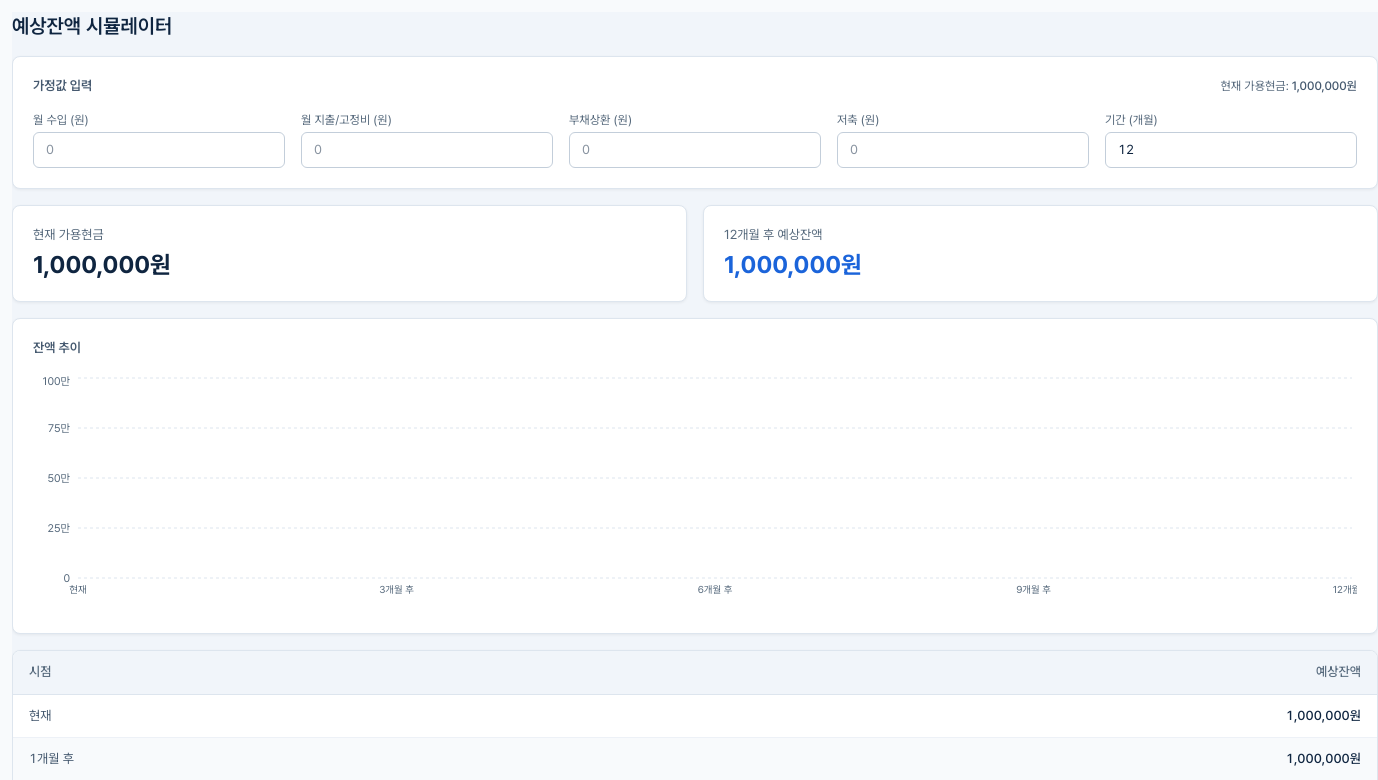
Scenario: 예상잔액 계산 › 수입에서 지출·부채상환·저축을 모두 뺀다
Type "3000000" into the number field labelled "월 수입 (원)" at (159, 150), box left=33, top=132, right=285, bottom=168
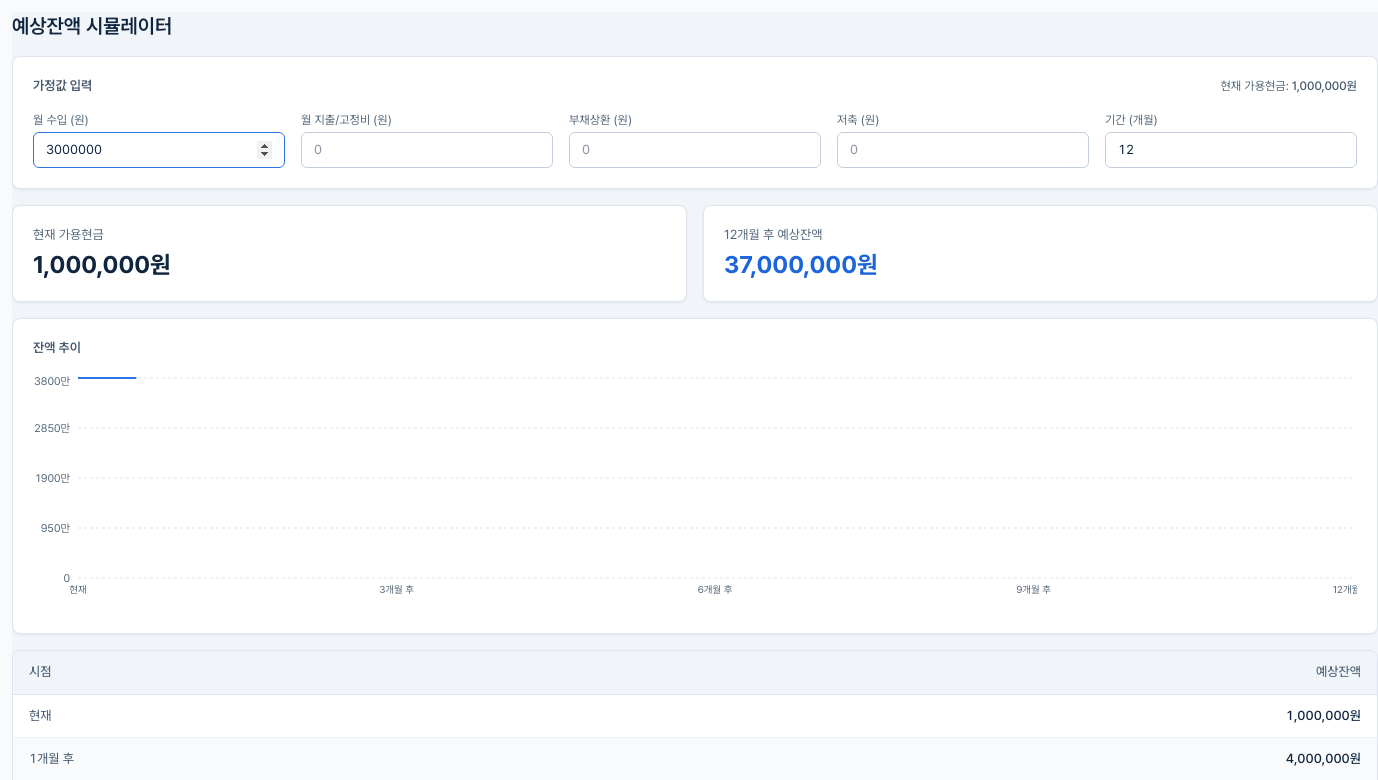
Type "1500000" into the number field labelled "월 지출/고정비 (원)" at (427, 150), box left=301, top=132, right=553, bottom=168
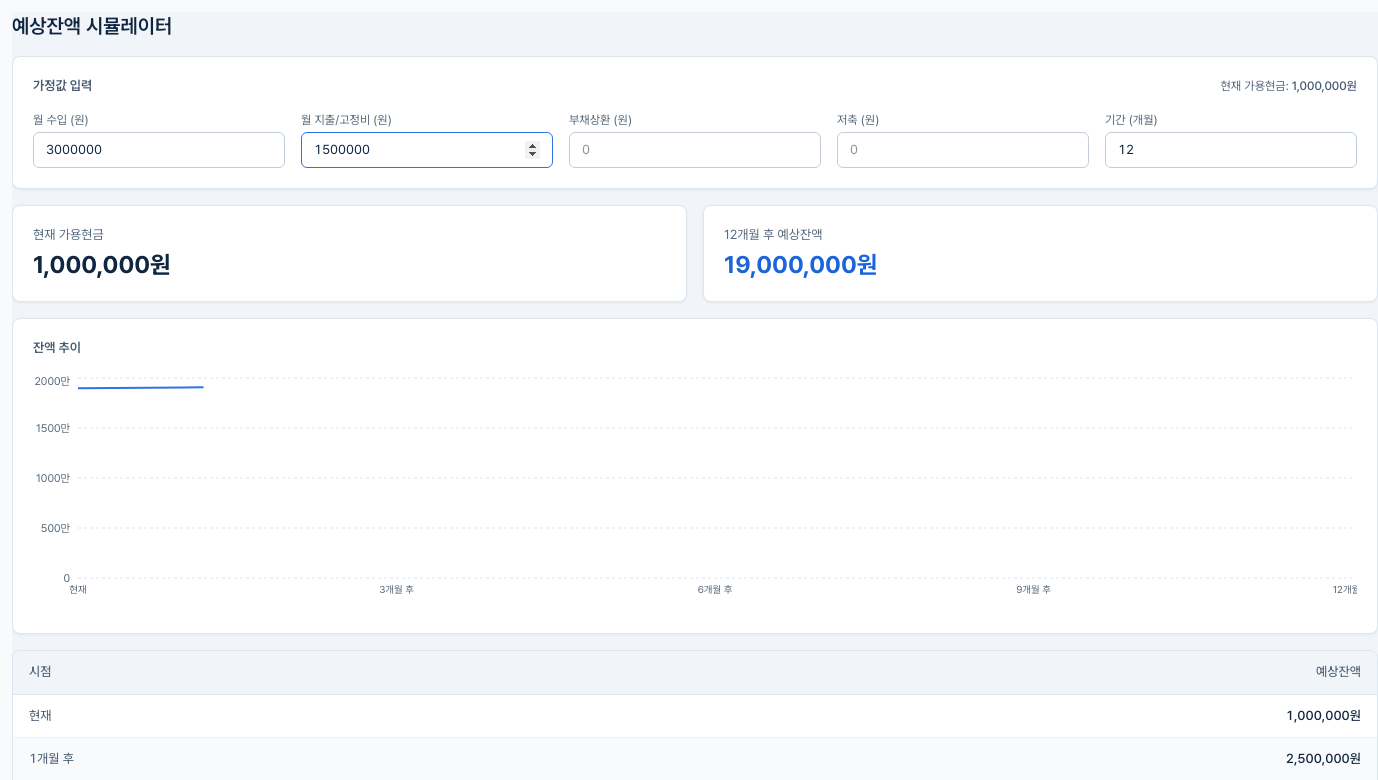
Type "500000" into the number field labelled "부채상환 (원)" at (695, 150), box left=569, top=132, right=821, bottom=168
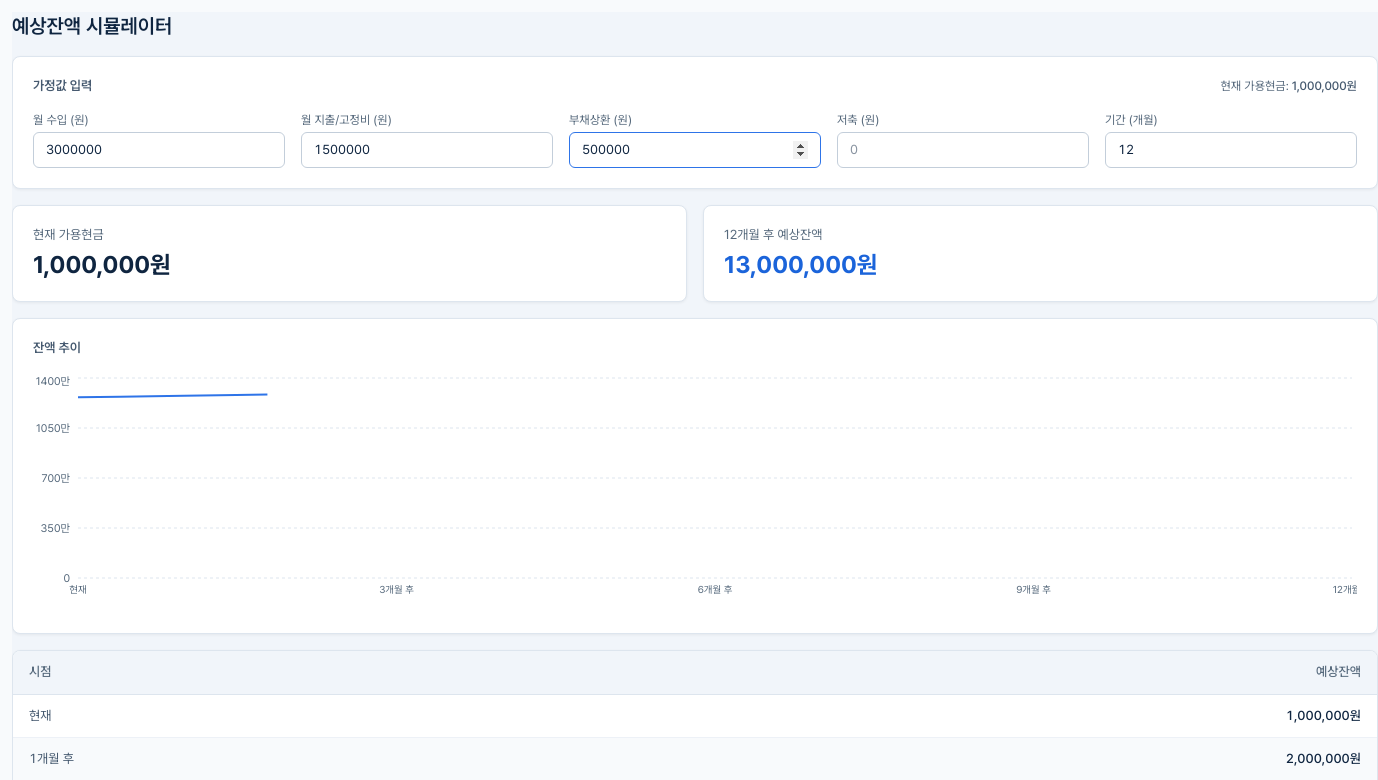
Type "300000" into the number field labelled "저축 (원)" at (963, 150), box left=837, top=132, right=1089, bottom=168
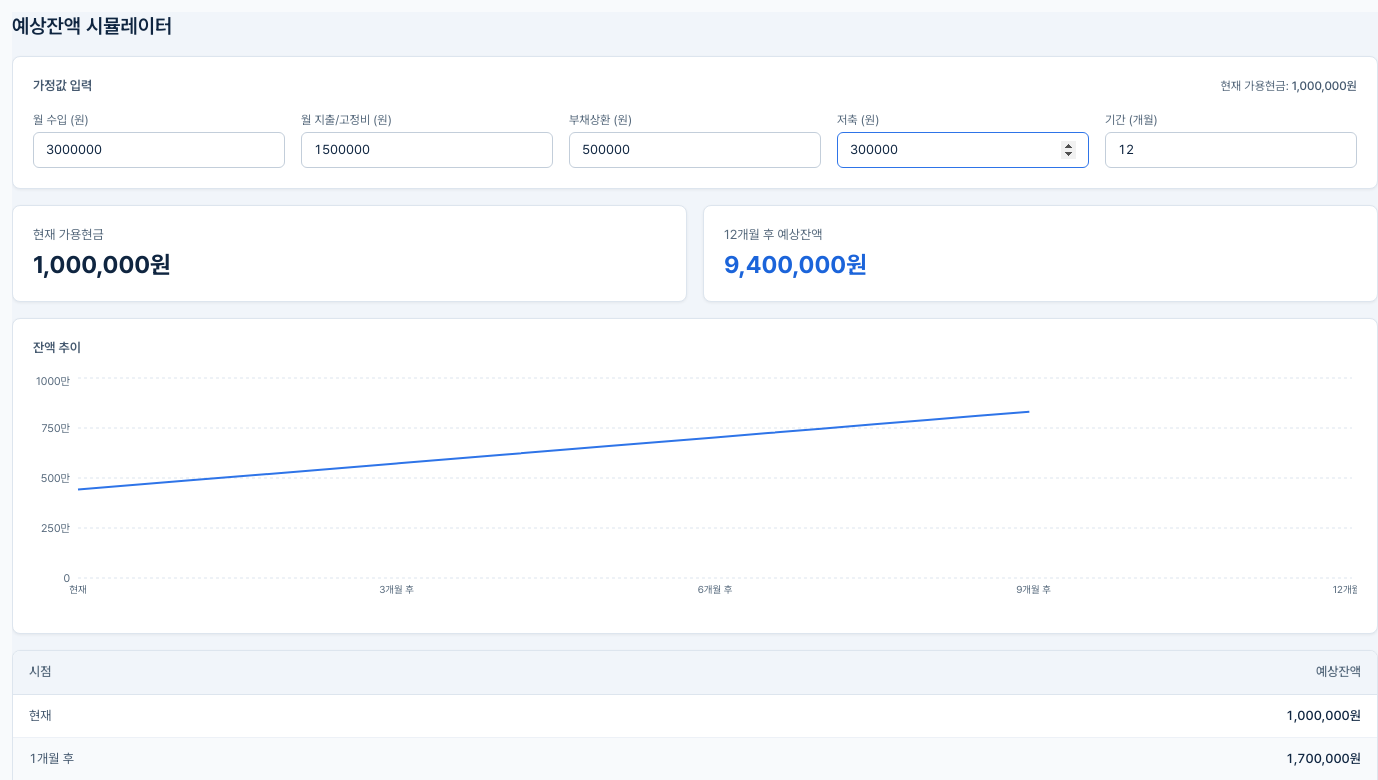
Now the text "9,400,000원" is shown, box left=724, top=250, right=867, bottom=279
